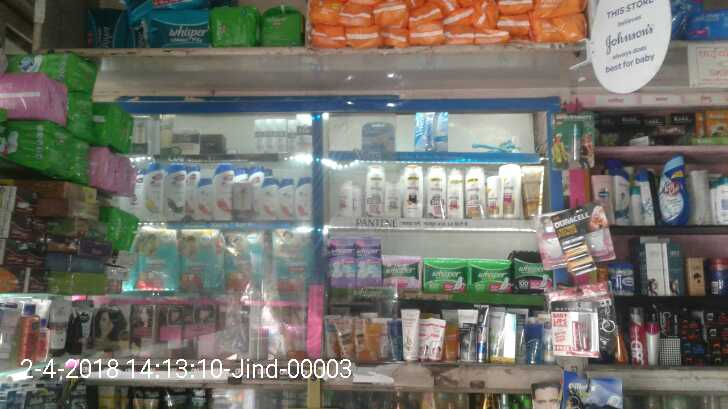venus: (415, 111, 449, 150), (360, 120, 397, 153), (472, 134, 527, 155)
